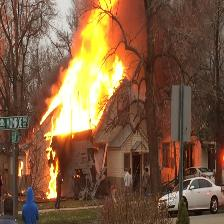fire: (41, 1, 125, 136), (48, 159, 59, 198)
